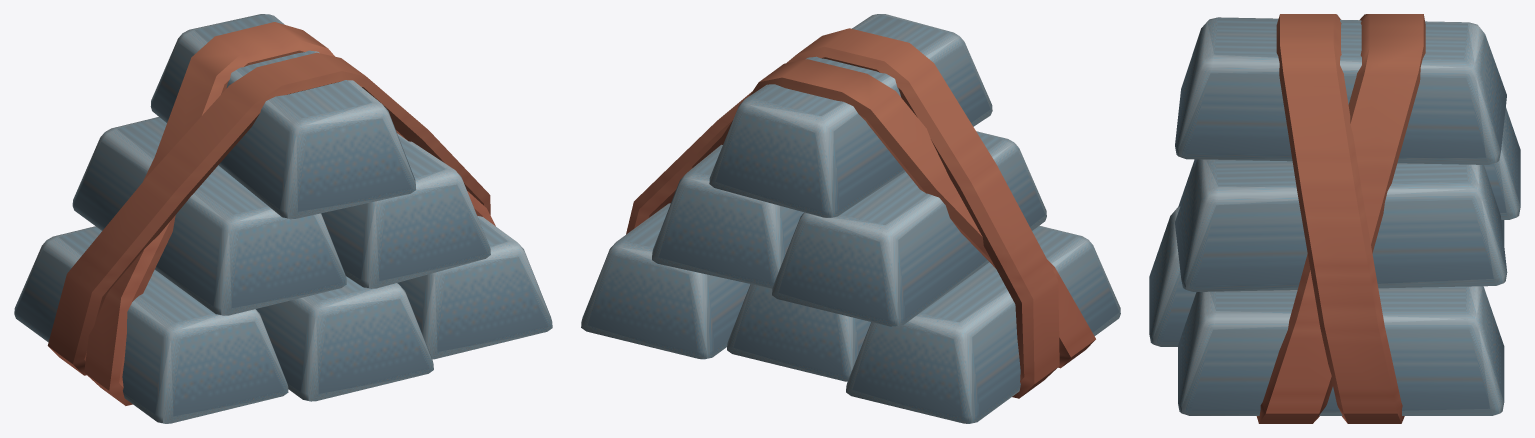
The model's file is Iron_Bars.gltf.
3 views of the same model, side by side, from view 1: azimuth 30°, elevation 25°; view 2: azimuth 150°, elevation 25°; view 3: azimuth 270°, elevation 25° (orthographic). The views are drawn at different scales.
Parts seen in each view (by area): view 1: Iron_Bars; view 2: Iron_Bars; view 3: Iron_Bars.
Part boxes in pixels (x1,y1,x2,y2): Iron_Bars: (14, 14, 552, 423); Iron_Bars: (581, 14, 1120, 423); Iron_Bars: (1149, 14, 1520, 423).
Bounding box in the file's own units: 1.27 × 0.7897 × 0.9106.
1 material, 1 textured.
